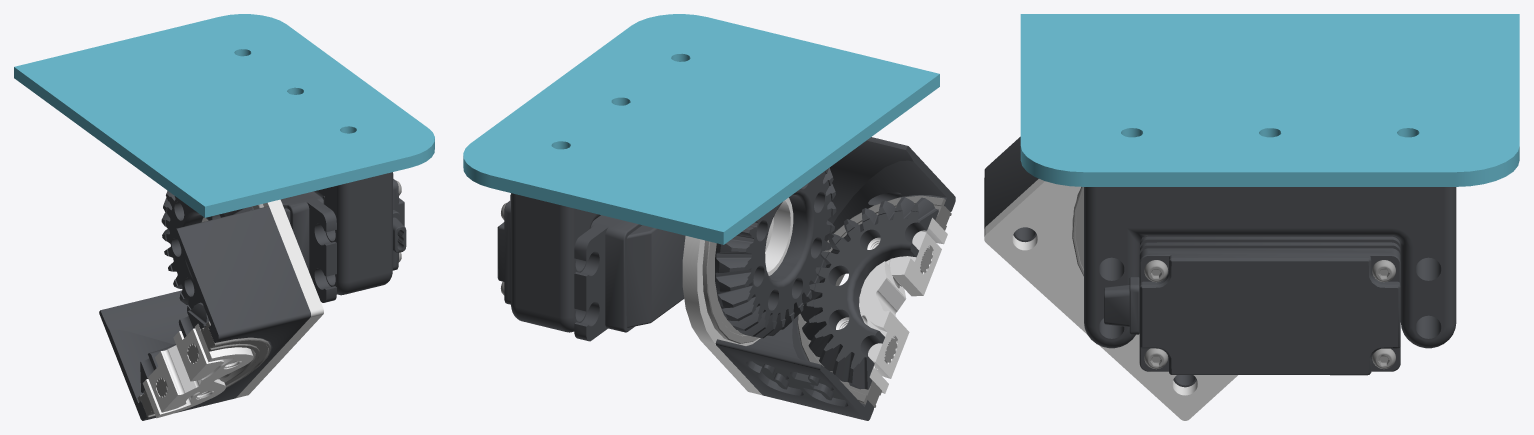
File: gearbox-section.glb
3 views of the same model, side by side, from view 1: azimuth 30°, elevation 25°; view 2: azimuth 150°, elevation 25°; view 3: azimuth 270°, elevation 25° (orthographic). The views are drawn at different scales.
Visible parts, largest first — view 1: COMPOUND (×3), =>[0:1:1:3], =>[0:1:1:15], =>[0:1:1:6]; view 2: COMPOUND (×3), =>[0:1:1:3], =>[0:1:1:15], =>[0:1:1:6]; view 3: COMPOUND, =>[0:1:1:3], =>[0:1:1:15], =>[0:1:1:21], =>[0:1:1:6].
Part boxes in pixels (x1,y1,x2,y2): COMPOUND (×3): (14, 14, 434, 418); =>[0:1:1:3]: (99, 172, 406, 420); =>[0:1:1:15]: (236, 199, 323, 398); =>[0:1:1:6]: (156, 204, 263, 397); COMPOUND (×3): (463, 14, 951, 407); =>[0:1:1:3]: (497, 137, 955, 420); =>[0:1:1:15]: (682, 236, 762, 395); =>[0:1:1:6]: (702, 240, 933, 363); COMPOUND: (1020, 14, 1519, 186); =>[0:1:1:3]: (984, 136, 1456, 387); =>[0:1:1:15]: (984, 179, 1237, 420); =>[0:1:1:21]: (1144, 260, 1395, 369); =>[0:1:1:6]: (1072, 187, 1083, 276).
Bounding box in the file's own units: 58.5 × 58.6 × 83.68.
